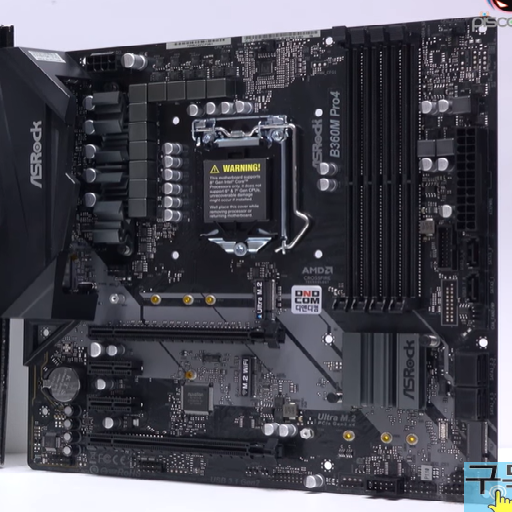CPU: (187, 117, 300, 259)
GPU: (82, 428, 284, 464), (82, 317, 287, 348)
MOTHERBOARD: (1, 20, 499, 500)
RAM: (332, 26, 429, 311)
SSD: (251, 275, 283, 321), (237, 351, 263, 399)
